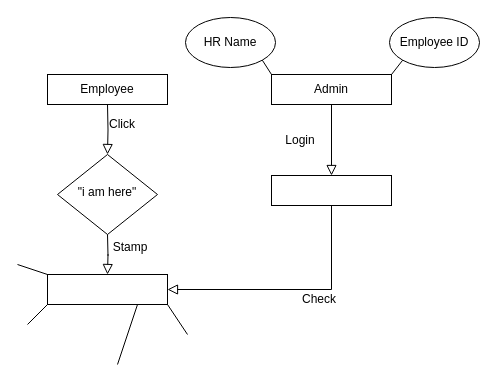
This 497x383 diagram has some shape labels left out. Here are the shapes that lost their labels. From the top down, the centre of each, then its label:
At (331,190): "HR Login".
At (107,289): "DB".
